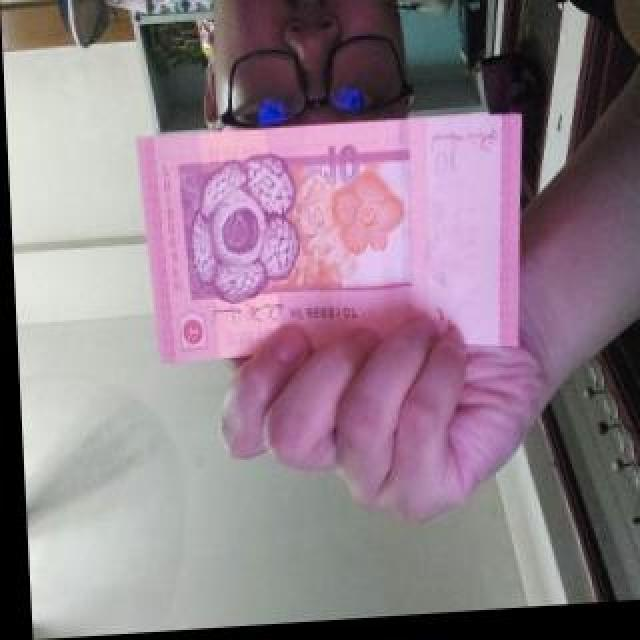10 Ringgit: (116, 110, 536, 377)
